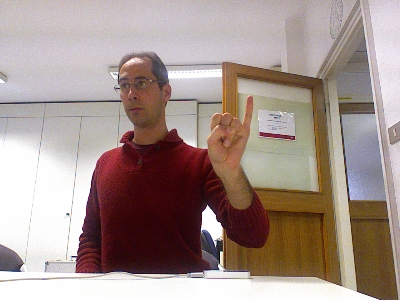小指: (205, 94, 254, 173)
